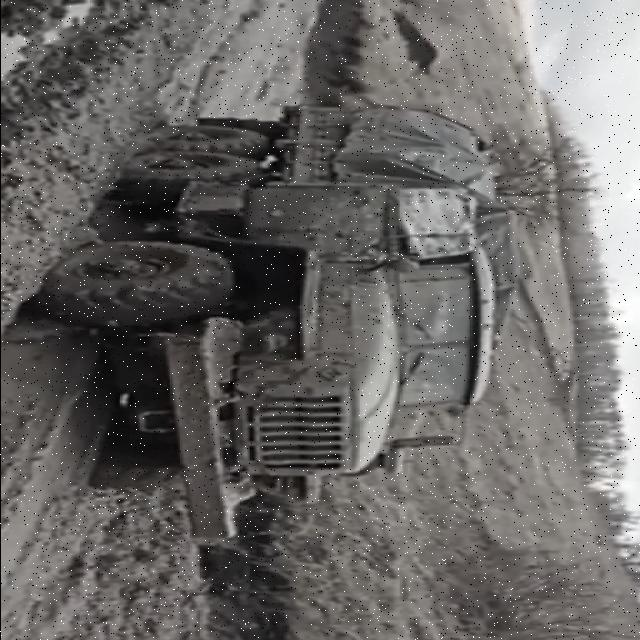TRUCK: (25, 102, 528, 548)
